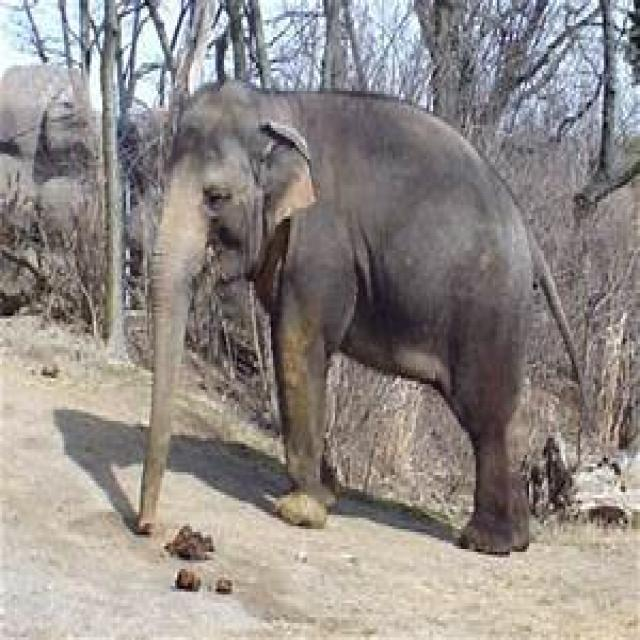elephant: (119, 80, 542, 560)
